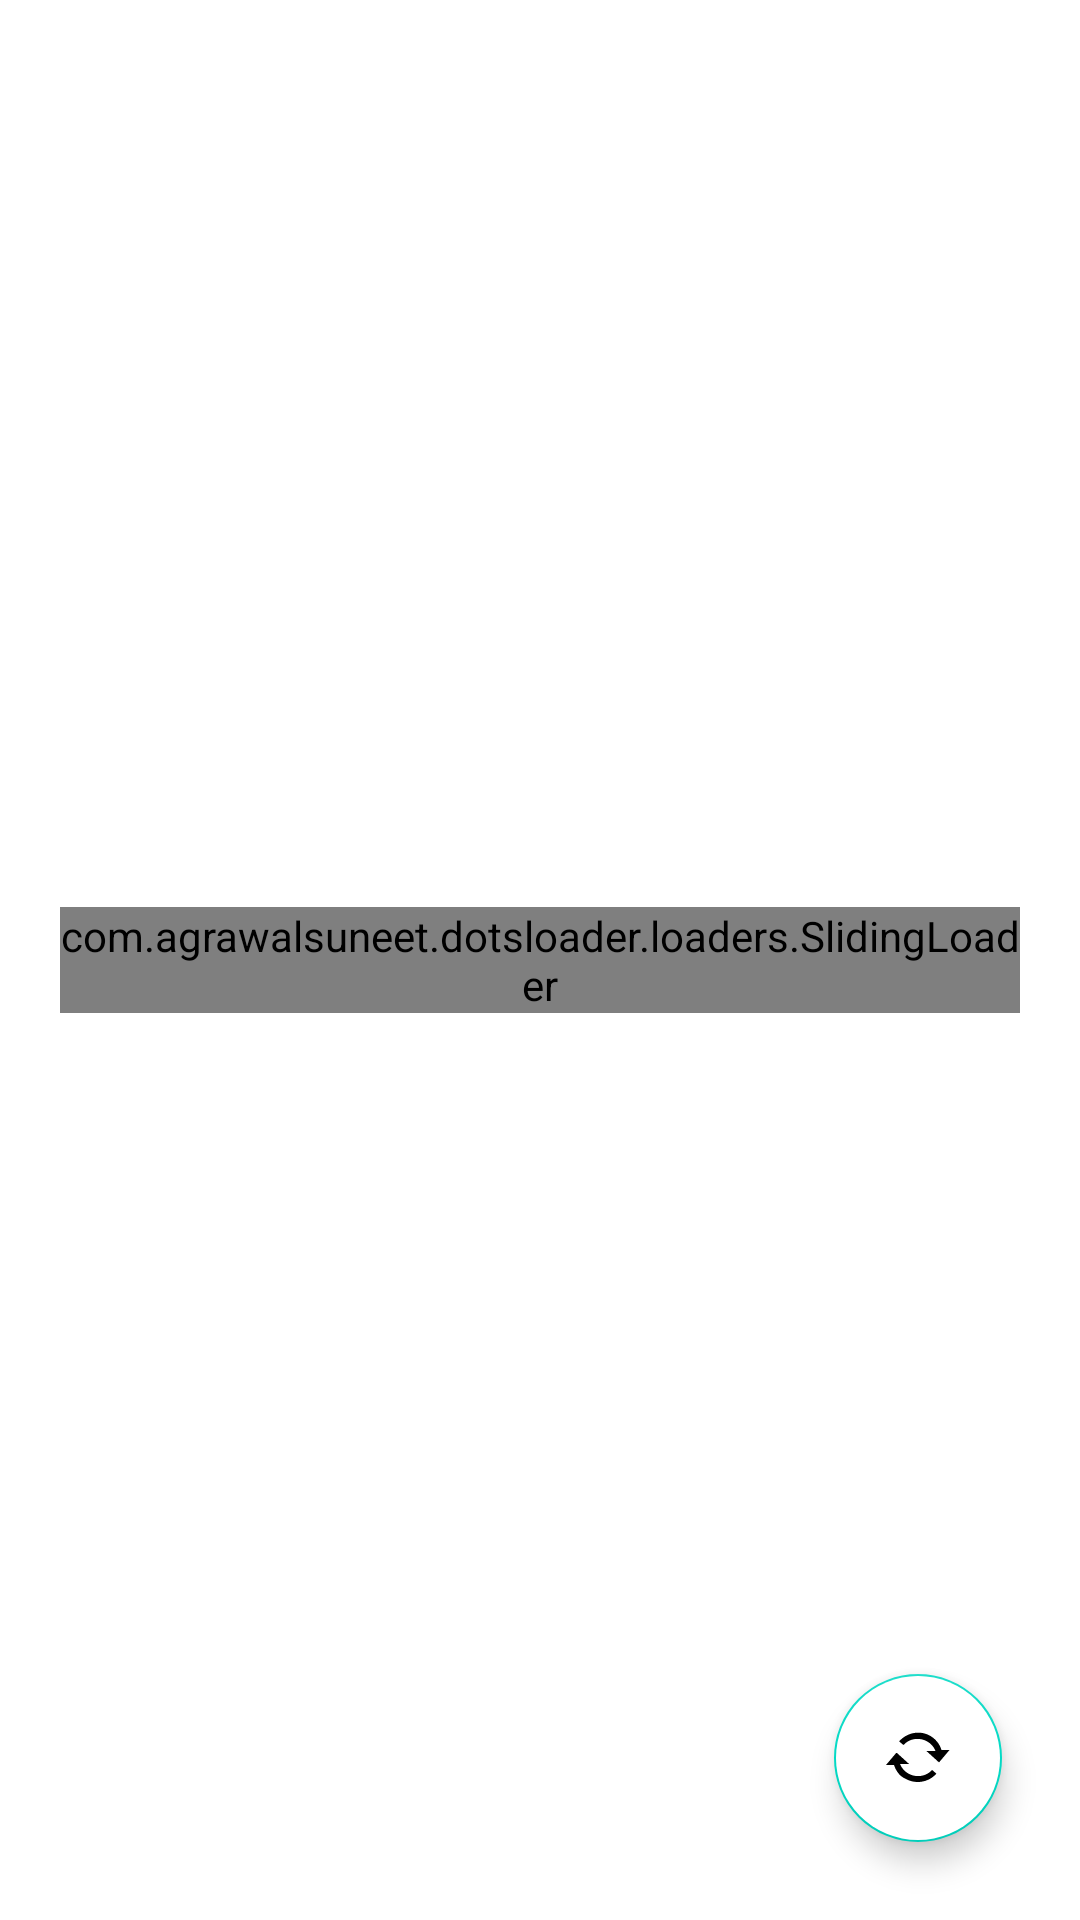

Named icons in this screenshot (1080×1920) and their centers, (x=x, y=y):
sync: (x=918, y=1758)
